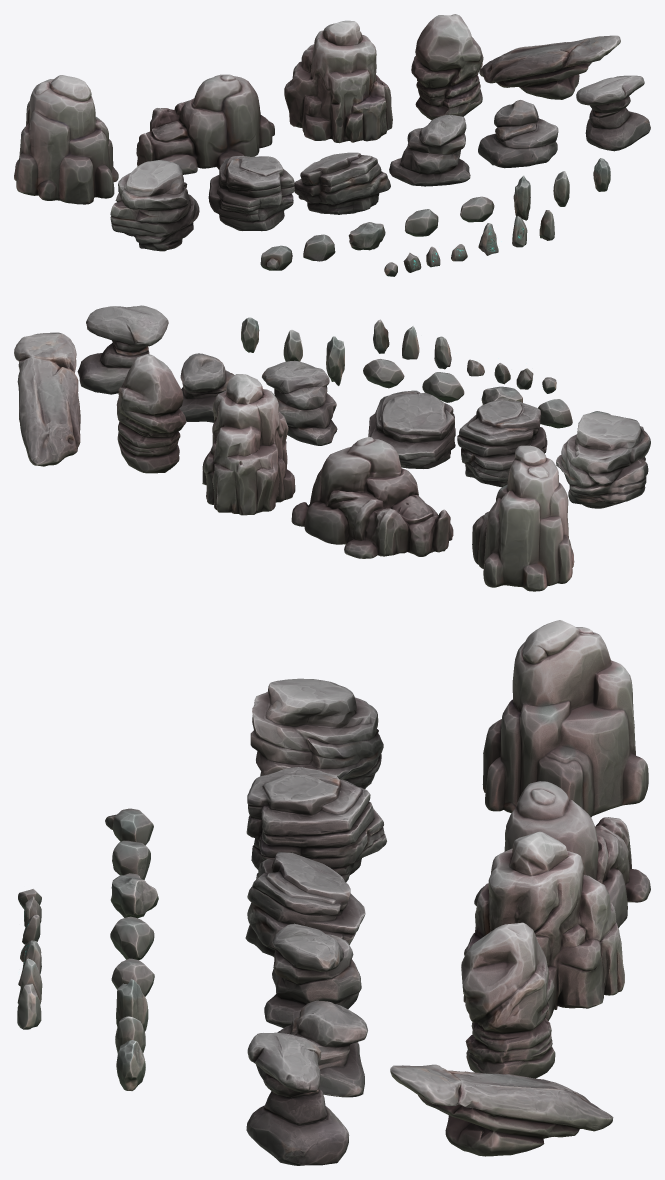
3 renders of one model, top to bottom at view 1: azimuth 30°, elevation 25°; view 2: azimuth 150°, elevation 25°; view 3: azimuth 270°, elevation 25°, orthographic. The views are drawn at different scales.
Visible parts, largest first — view 1: BIG_1_BiG_0, Big_3_BiG_0, Big_2_BiG_0, Mid_4_MID_0 (×2), Mid_1_MID_0, Big_4_BiG_0, Mid_2_MID_0, Big_5_BiG_0, Mid_3_MID_0, Mid_5_MID_0, Small_3_SMall_0, Small_4_SMall_0 (+9 smaller); view 2: Big_2_BiG_0, BIG_1_BiG_0, Big_3_BiG_0, Big_5_BiG_0, Mid_1_MID_0, Mid_4_MID_0 (×2), Big_4_BiG_0, Mid_2_MID_0, Mid_3_MID_0, Mid_5_MID_0, Small_4_SMall_0, Small_5_SMall_0 (+8 smaller); view 3: BIG_1_BiG_0, Big_3_BiG_0, Big_5_BiG_0, Big_4_BiG_0, Mid_4_MID_0 (×2), Mid_2_MID_0, Mid_1_MID_0, Mid_5_MID_0, Big_2_BiG_0, Mid_3_MID_0, Small_3_SMall_0, Small_4_SMall_0 (+7 smaller).
Part boxes in pixels (x1,y1,x2,y2): BIG_1_BiG_0: (14, 75, 118, 204); Big_3_BiG_0: (284, 20, 392, 143); Big_2_BiG_0: (136, 74, 274, 174); Mid_4_MID_0 (×2): (389, 100, 558, 186); Mid_1_MID_0: (110, 160, 199, 251); Big_4_BiG_0: (411, 14, 483, 120); Mid_2_MID_0: (208, 156, 294, 231); Big_5_BiG_0: (479, 35, 620, 99); Mid_3_MID_0: (294, 152, 390, 214); Mid_5_MID_0: (576, 75, 650, 151); Small_3_SMall_0: (348, 222, 385, 250); Small_4_SMall_0: (405, 209, 438, 236); Big_2_BiG_0: (291, 437, 453, 558); BIG_1_BiG_0: (472, 445, 574, 591); Big_3_BiG_0: (202, 374, 295, 515); Big_5_BiG_0: (14, 332, 80, 466); Mid_1_MID_0: (556, 413, 650, 508); Mid_4_MID_0 (×2): (179, 353, 337, 445); Big_4_BiG_0: (116, 354, 186, 473); Mid_2_MID_0: (457, 400, 547, 487); Mid_3_MID_0: (368, 390, 455, 468); Mid_5_MID_0: (77, 305, 168, 394); Small_4_SMall_0: (422, 372, 464, 402); Small_5_SMall_0: (363, 359, 404, 388); BIG_1_BiG_0: (482, 620, 648, 817); Big_3_BiG_0: (463, 831, 624, 1020); Big_5_BiG_0: (390, 1064, 613, 1156); Big_4_BiG_0: (461, 922, 555, 1078); Mid_4_MID_0 (×2): (256, 923, 367, 1097); Mid_2_MID_0: (246, 767, 386, 882); Mid_1_MID_0: (250, 678, 383, 788); Mid_5_MID_0: (246, 1032, 349, 1165); Big_2_BiG_0: (474, 781, 650, 927); Mid_3_MID_0: (245, 852, 365, 957); Small_3_SMall_0: (110, 873, 158, 918); Small_4_SMall_0: (110, 916, 154, 959).
Bounding box in the file's own units: 29.58 × 6.14 × 19.08.
Materials: 6 (6 with a texture image).
